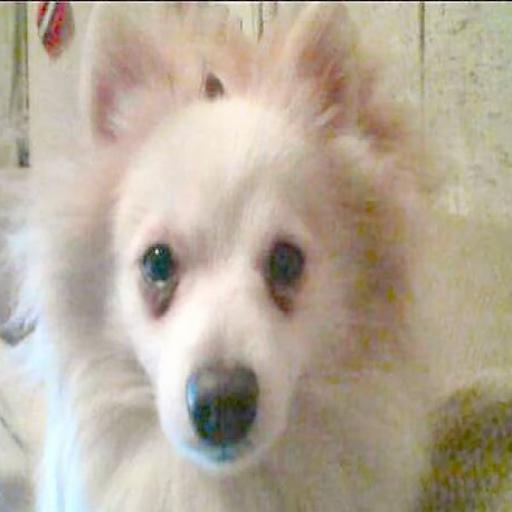dog_face: (88, 18, 372, 473)
